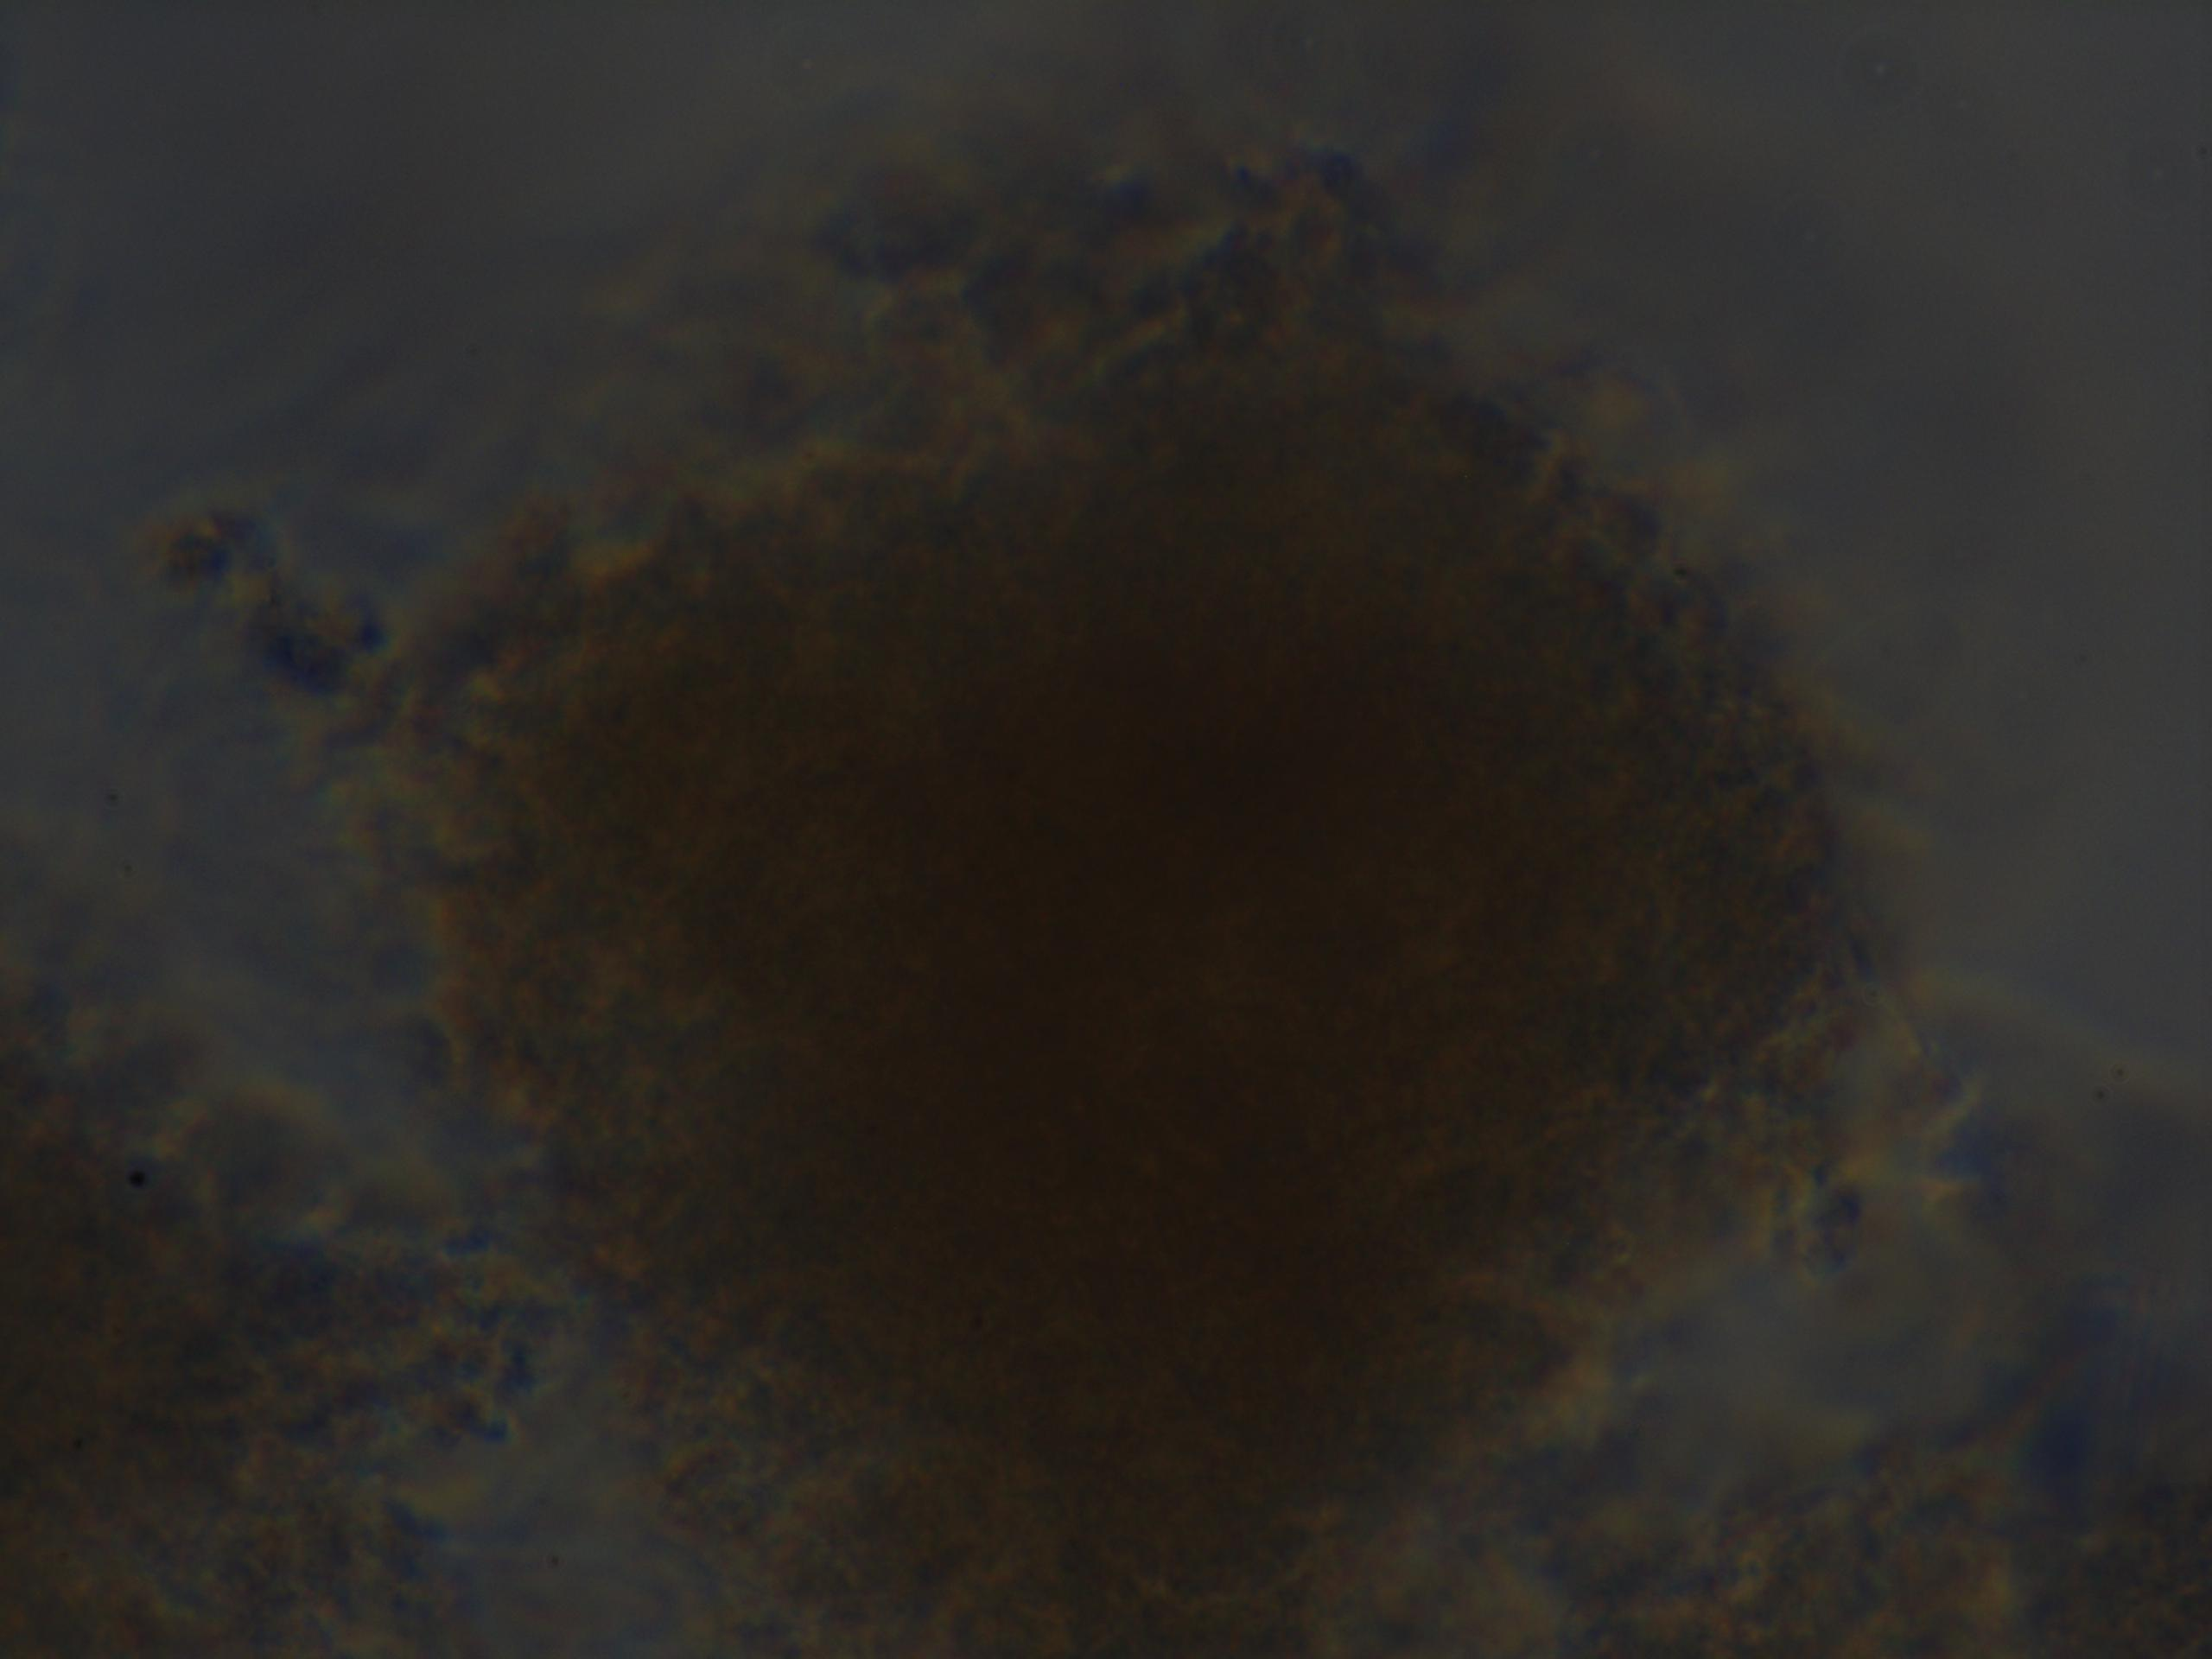spherical_floc: (362, 260, 1911, 1659)
